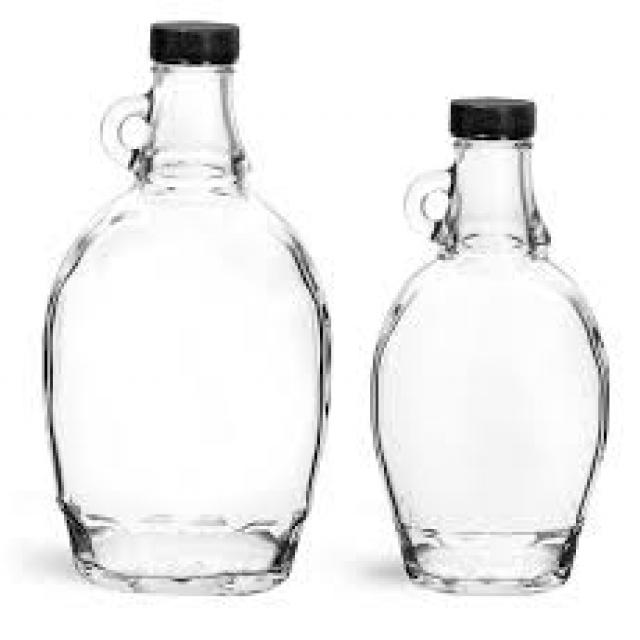Glass-Non-Biodegradable but Recyclable-: (41, 25, 328, 603), (371, 101, 611, 603)
